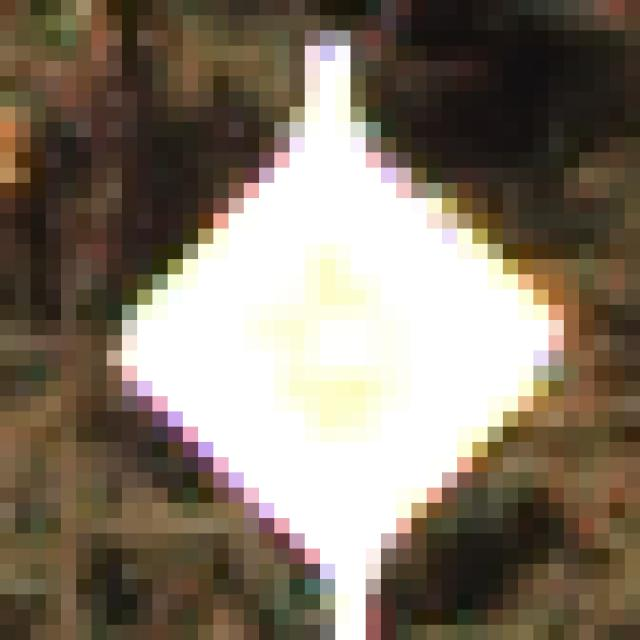Main Road: (93, 92, 550, 565)
